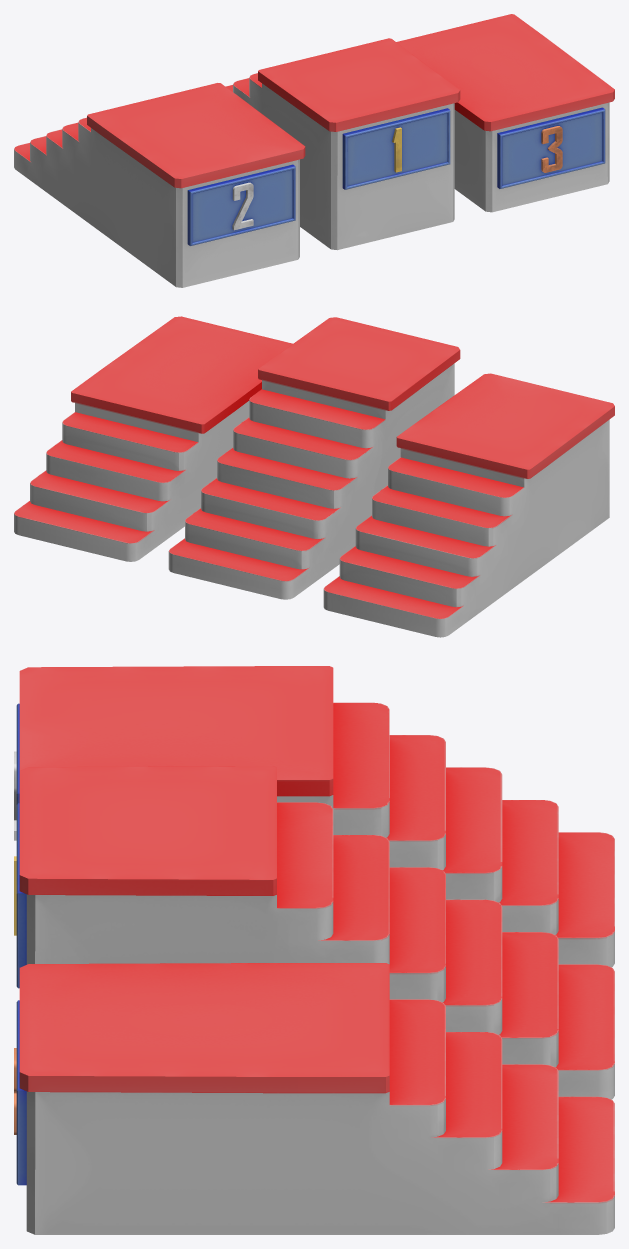
Rendered from Podium.glb.
The picture shows the model from 3 angles, top to bottom: view 1: azimuth 30°, elevation 25°; view 2: azimuth 150°, elevation 25°; view 3: azimuth 270°, elevation 25°; orthographic projection. The views are drawn at different scales.
Parts seen in each view (by area): view 1: Podium_Podium_0; view 2: Podium_Podium_0; view 3: Podium_Podium_0.
Boxes of the visible parts, <box> form: Podium_Podium_0: <box>14,14,614,287</box>; Podium_Podium_0: <box>14,316,614,637</box>; Podium_Podium_0: <box>14,666,614,1234</box>.
Bounding box in the file's own units: 7.16 × 2 × 4.8.
Materials: 1 (1 with a texture image).
